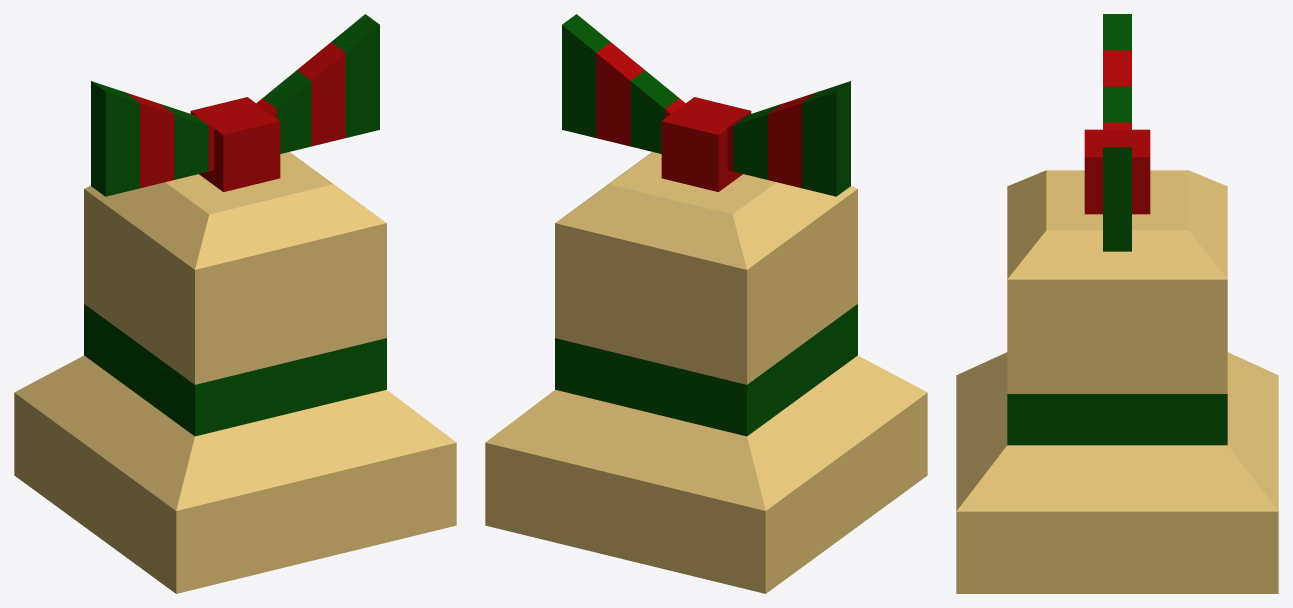
The model's file is 007 Santa_Claus_Hat.fbx.
The picture shows the model from 3 angles, left to right: view 1: azimuth 30°, elevation 25°; view 2: azimuth 150°, elevation 25°; view 3: azimuth 270°, elevation 25°; orthographic projection.
Visible parts, largest first — view 1: Lowpoly_Christmas_Pack_07:pCube2; view 2: Lowpoly_Christmas_Pack_07:pCube2; view 3: Lowpoly_Christmas_Pack_07:pCube2.
Boxes of the visible parts, bbox=[...] form: Lowpoly_Christmas_Pack_07:pCube2: bbox=[14, 14, 456, 593]; Lowpoly_Christmas_Pack_07:pCube2: bbox=[485, 14, 927, 593]; Lowpoly_Christmas_Pack_07:pCube2: bbox=[956, 14, 1278, 593].
Bounding box in the file's own units: 1 × 1.52 × 1.
